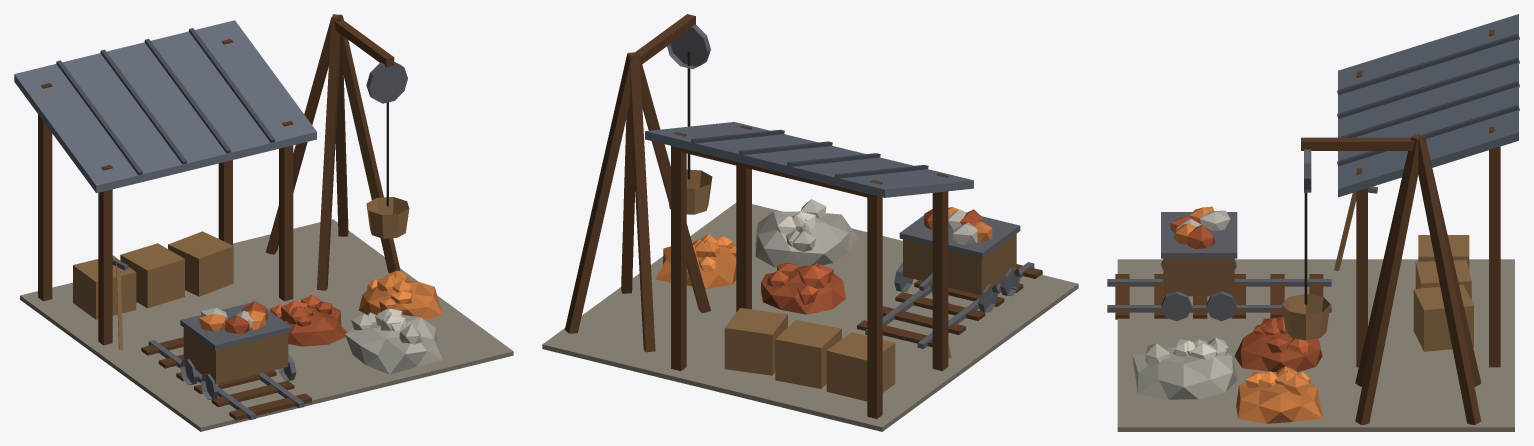
File: mining_camp.glb
3 views of the same model, side by side, from view 1: azimuth 30°, elevation 25°; view 2: azimuth 150°, elevation 25°; view 3: azimuth 270°, elevation 25° (orthographic). The views are drawn at different scales.
Parts seen in each view (by area): view 1: mining_camp; view 2: mining_camp; view 3: mining_camp.
Boxes of the visible parts, bbox=[...] form: mining_camp: bbox=[14, 14, 513, 431]; mining_camp: bbox=[542, 14, 1078, 431]; mining_camp: bbox=[1107, 14, 1519, 431].
Size of the model in its own units: 3.95 by 2.96 by 4.04.
Materials: 1 (1 with a texture image).
